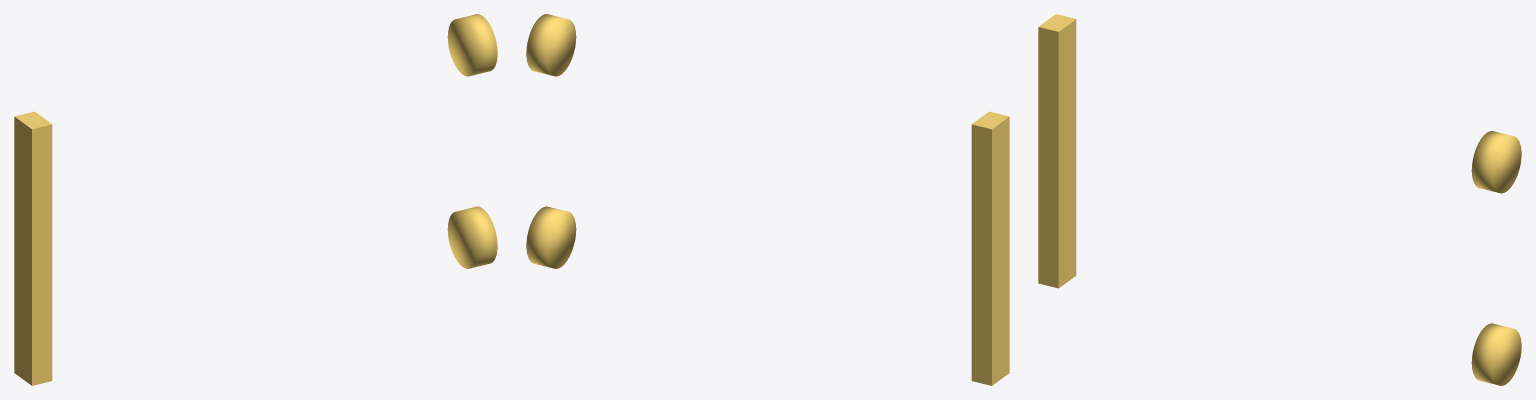
The model's file is car_lights.obj.
3 views of the same model, side by side, from view 1: azimuth 30°, elevation 25°; view 2: azimuth 150°, elevation 25°; view 3: azimuth 330°, elevation 25° (orthographic).
Parts seen in each view (by area): view 1: car_taillight, car_headlight_-1, car_headlight_1; view 2: car_taillight, car_headlight_-1, car_headlight_1; view 3: car_taillight, car_headlight_-1, car_headlight_1.
Boxes of the visible parts, x1,y1,x2,y2 form: car_taillight: (14, 111, 52, 385); car_headlight_-1: (447, 206, 497, 268); car_headlight_1: (447, 14, 497, 76); car_taillight: (971, 111, 1009, 385); car_headlight_-1: (526, 206, 576, 268); car_headlight_1: (526, 14, 576, 76); car_taillight: (1038, 14, 1076, 288); car_headlight_-1: (1471, 323, 1521, 385); car_headlight_1: (1471, 131, 1521, 193).
Bounding box in the file's own units: 0.45 × 0.24 × 0.05.
